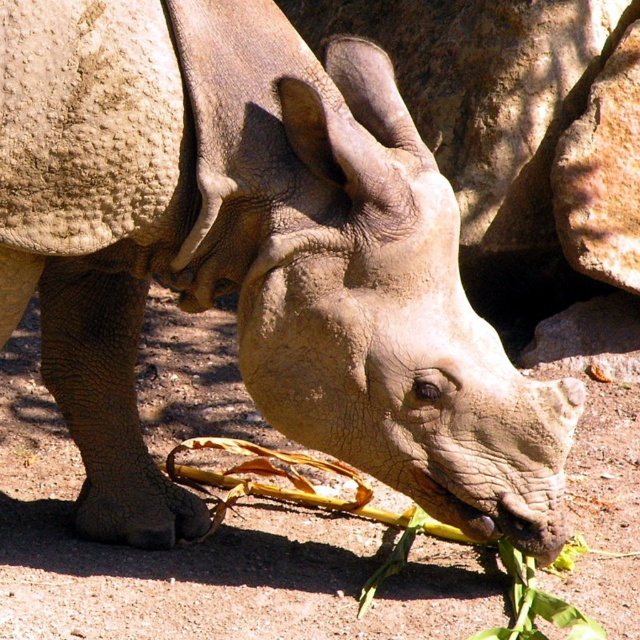Rhinoceros: (0, 0, 598, 579)
